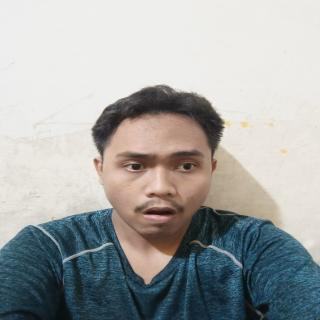Takut: (88, 106, 231, 241)
